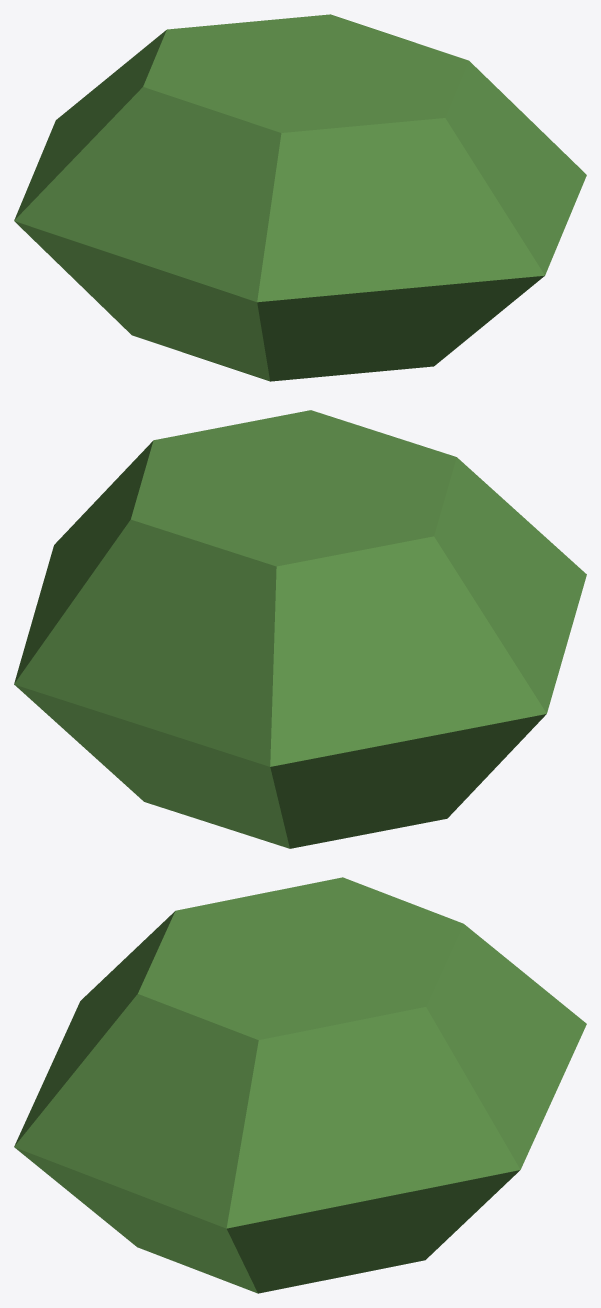
Rendered from SM_Item_Gem_01.glb.
3 renders of one model, top to bottom at view 1: azimuth 30°, elevation 25°; view 2: azimuth 150°, elevation 25°; view 3: azimuth 270°, elevation 25°, orthographic. The views are drawn at different scales.
Visible parts, largest first — view 1: SM_Item_Gem_01; view 2: SM_Item_Gem_01; view 3: SM_Item_Gem_01.
Boxes of the visible parts, x1,y1,x2,y2 form: SM_Item_Gem_01: (14, 14, 586, 381); SM_Item_Gem_01: (14, 410, 586, 848); SM_Item_Gem_01: (14, 877, 586, 1293).
Size of the model in its own units: 0.00134 by 0.000663 by 0.00125.
Materials: 1 (1 with a texture image).
